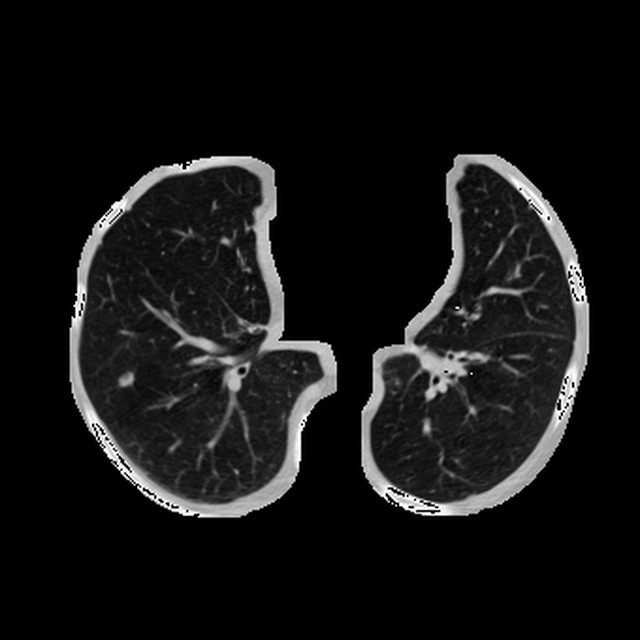PN: (119, 371, 134, 386)
